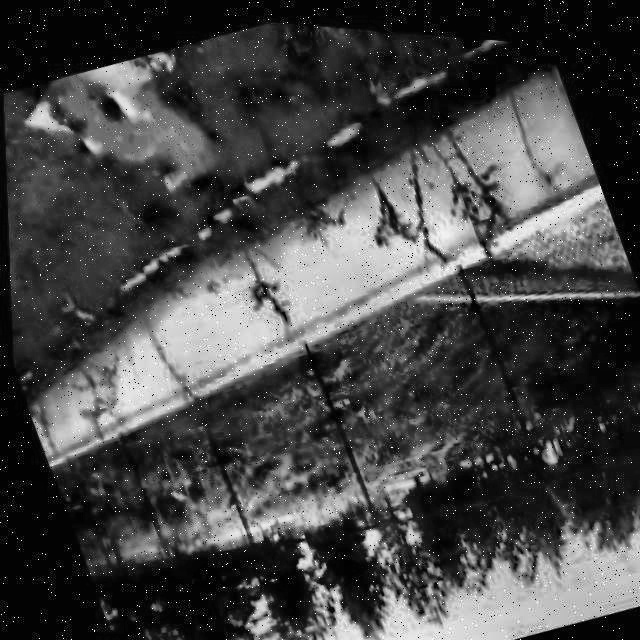Fire: (31, 35, 217, 209)
